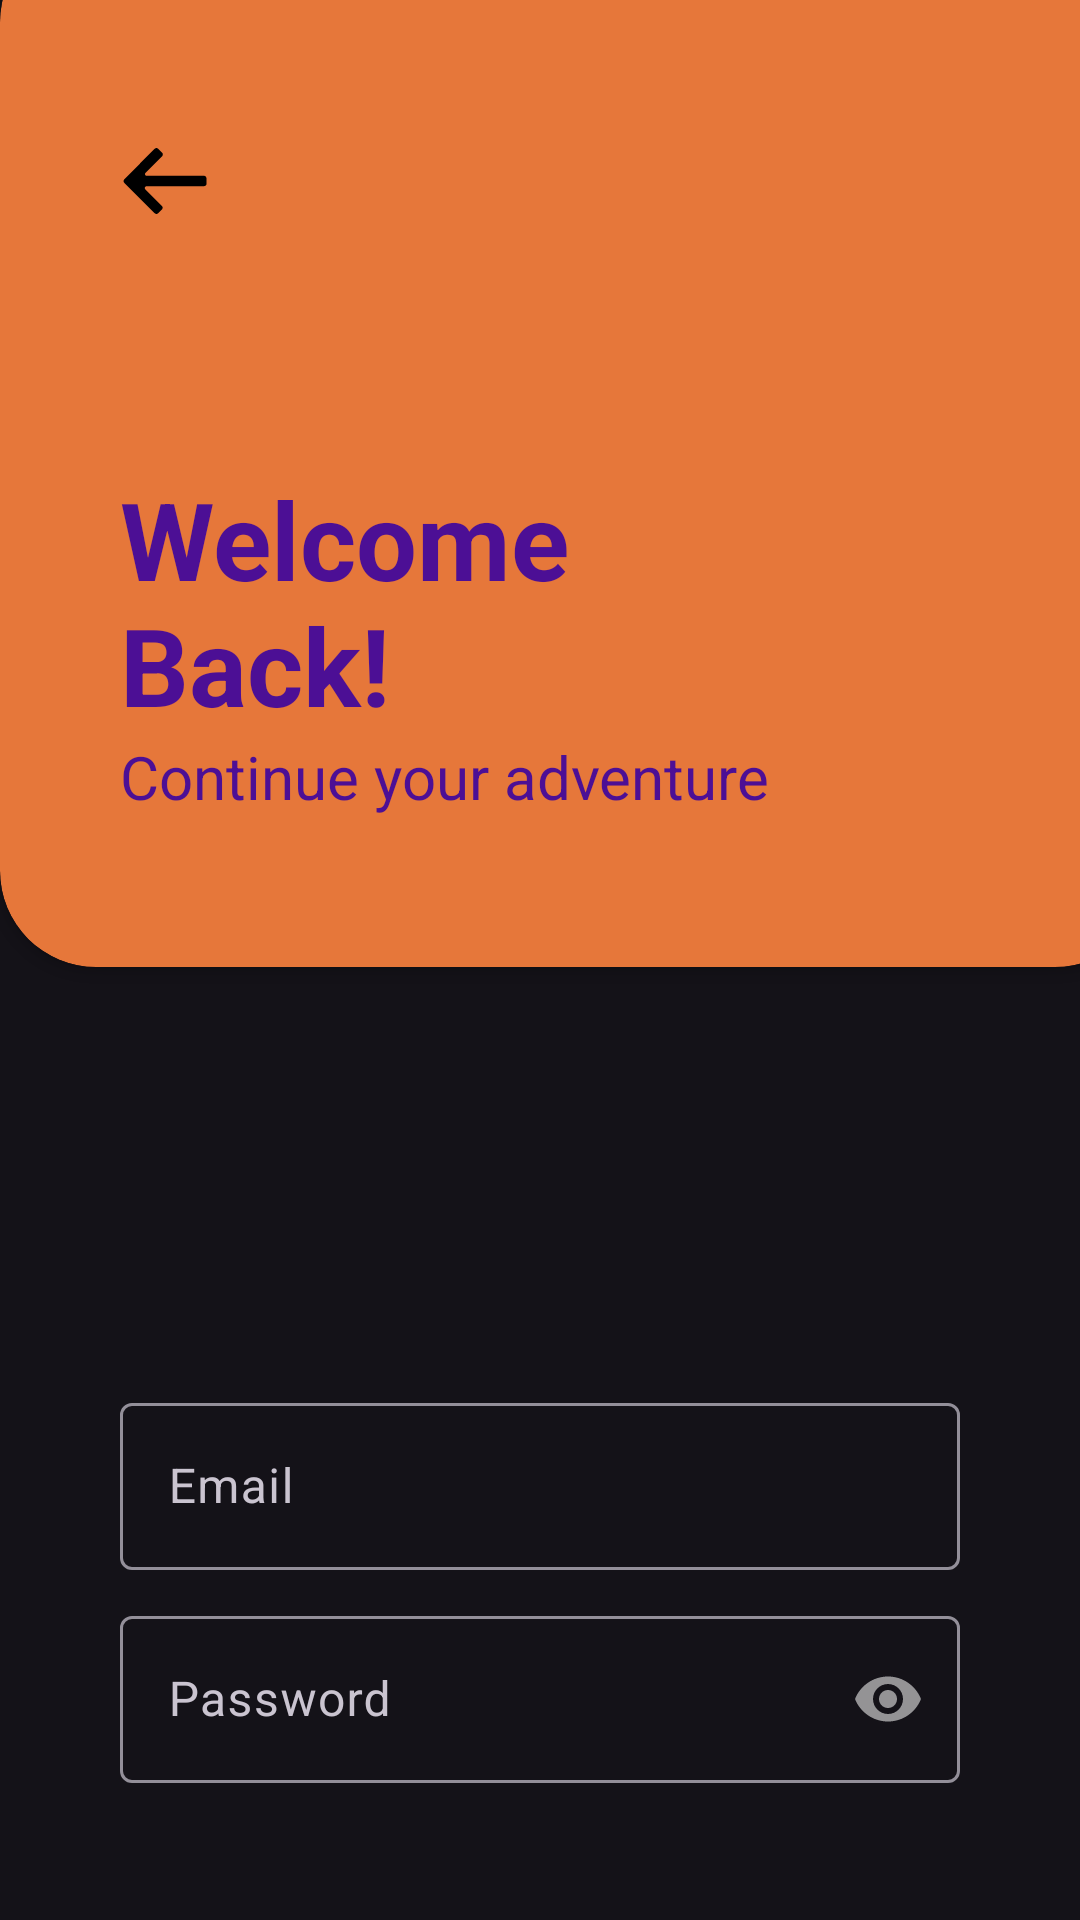

Point at icon controls on the screen. Image size 1080px x 1920px, points as (x=x, y=y).
back arrow: (x=165, y=181)
